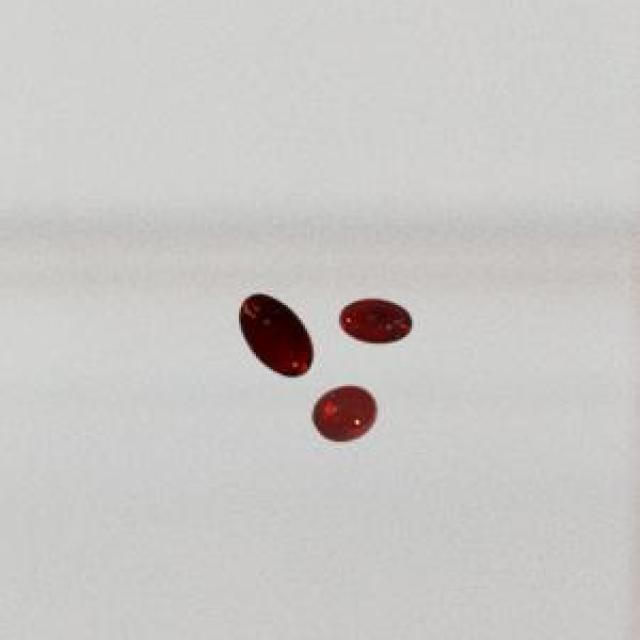Medicol: (228, 285, 322, 378), (334, 284, 421, 358), (308, 379, 382, 453)
